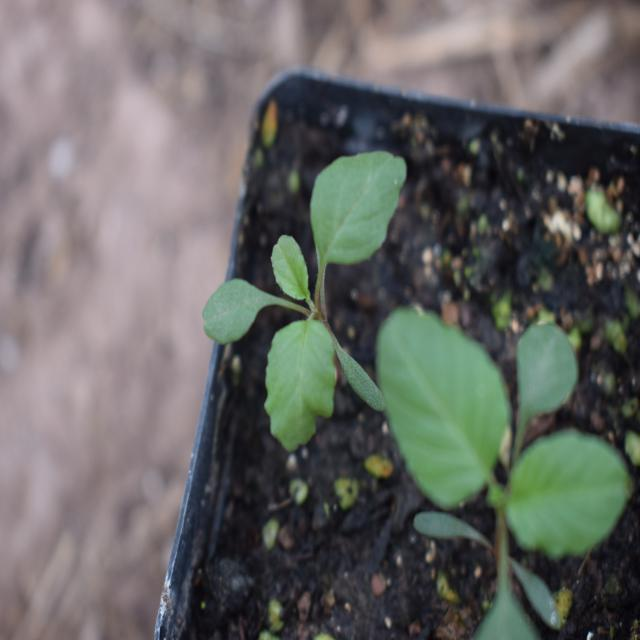pigweed: (198, 128, 410, 476)
